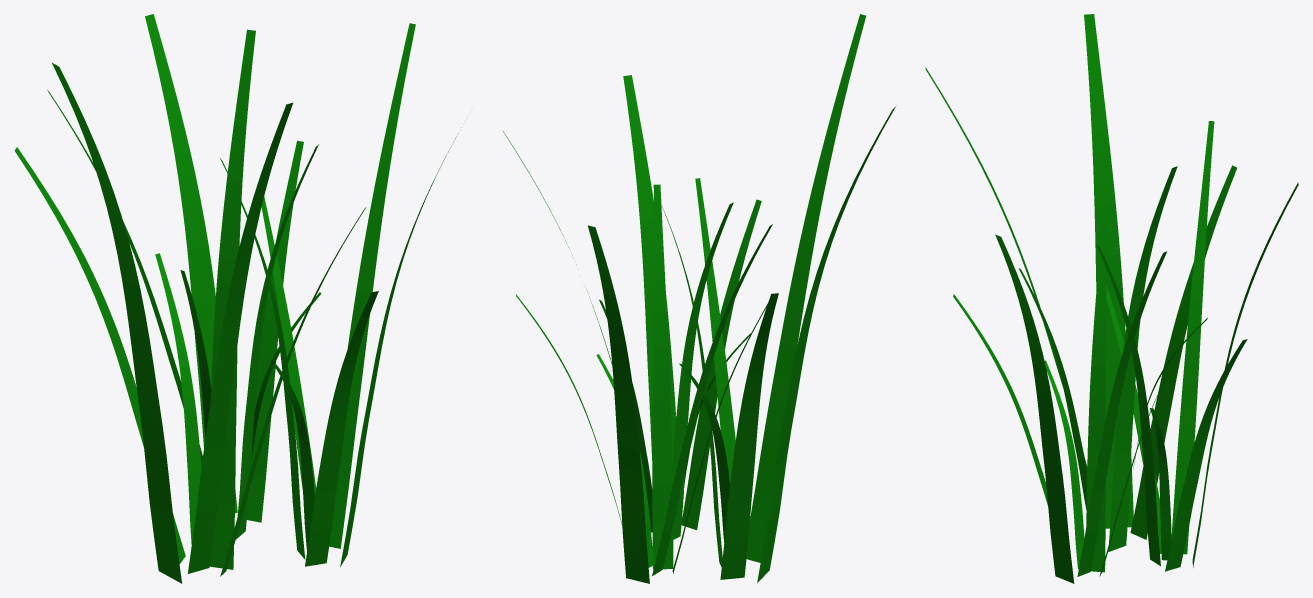
Rendered from grass.glb.
The picture shows the model from 3 angles, left to right: view 1: azimuth 30°, elevation 25°; view 2: azimuth 150°, elevation 25°; view 3: azimuth 270°, elevation 25°; orthographic projection. The views are drawn at different scales.
Parts seen in each view (by area): view 1: 平面.004, 平面, 平面.002, 平面.010, 平面.012, 平面.017, 平面.011, 平面.003, 平面.005, 平面.008, 平面.014, 平面.013 (+6 smaller); view 2: 平面, 平面.010, 平面.008, 平面.005, 平面.016, 平面.004, 平面.017, 平面.001, 平面.014, 平面.006, 平面.003, 平面.002 (+3 smaller); view 3: 平面.004, 平面.016, 平面.006, 平面.002, 平面.014, 平面.005, 平面.012, 平面.011, 平面.008, 平面.015, 平面.009, 平面.001 (+4 smaller).
Part boxes in pixels (<box>): 平面.004: <box>52,63,182,583</box>; 平面: <box>188,102,292,573</box>; 平面.002: <box>209,29,255,569</box>; 平面.010: <box>145,14,237,513</box>; 平面.012: <box>329,23,415,548</box>; 平面.017: <box>305,291,378,566</box>; 平面.011: <box>247,140,303,522</box>; 平面.003: <box>155,253,201,544</box>; 平面.005: <box>14,147,185,563</box>; 平面.008: <box>236,144,318,539</box>; 平面.014: <box>220,158,305,559</box>; 平面.013: <box>261,196,316,495</box>; 平面: <box>746,14,865,562</box>; 平面.010: <box>588,225,649,583</box>; 平面.008: <box>652,184,673,569</box>; 平面.005: <box>720,293,778,579</box>; 平面.016: <box>623,75,682,518</box>; 平面.004: <box>757,105,896,582</box>; 平面.017: <box>681,199,761,530</box>; 平面.001: <box>695,178,735,483</box>; 平面.014: <box>672,202,733,539</box>; 平面.006: <box>652,224,772,575</box>; 平面.003: <box>679,363,730,542</box>; 平面.002: <box>638,154,722,566</box>; 平面.004: <box>1084,14,1133,528</box>; 平面.016: <box>995,234,1074,583</box>; 平面.006: <box>1171,121,1214,554</box>; 平面.002: <box>1108,166,1177,551</box>; 平面.014: <box>1086,204,1109,572</box>; 平面.005: <box>1130,165,1236,539</box>; 平面.012: <box>1077,251,1167,576</box>; 平面.011: <box>1165,339,1247,571</box>; 平面.008: <box>1096,244,1160,565</box>; 平面.015: <box>1044,360,1084,568</box>; 平面.009: <box>1150,408,1171,560</box>; 平面.001: <box>1018,268,1087,510</box>.
Size of the model in its own units: 1 by 1.32 by 0.9664.
